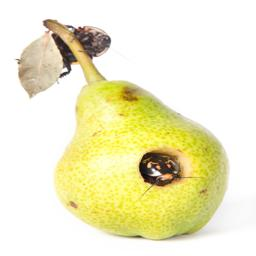Pear Rotten: (22, 8, 237, 241)
